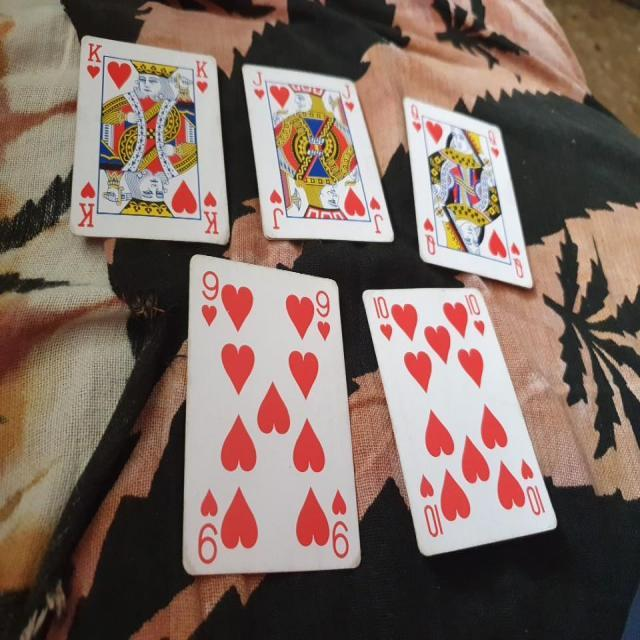10 of hearts: (358, 280, 558, 554)
9 of hearts: (176, 250, 366, 572)
jack of hearts: (238, 56, 396, 247)
king of hearts: (60, 36, 232, 248)
queen of hearts: (398, 88, 539, 294)
